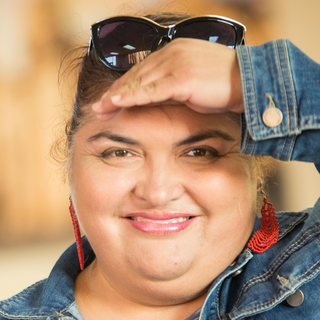eye: (99, 143, 144, 162), (177, 145, 217, 160)
